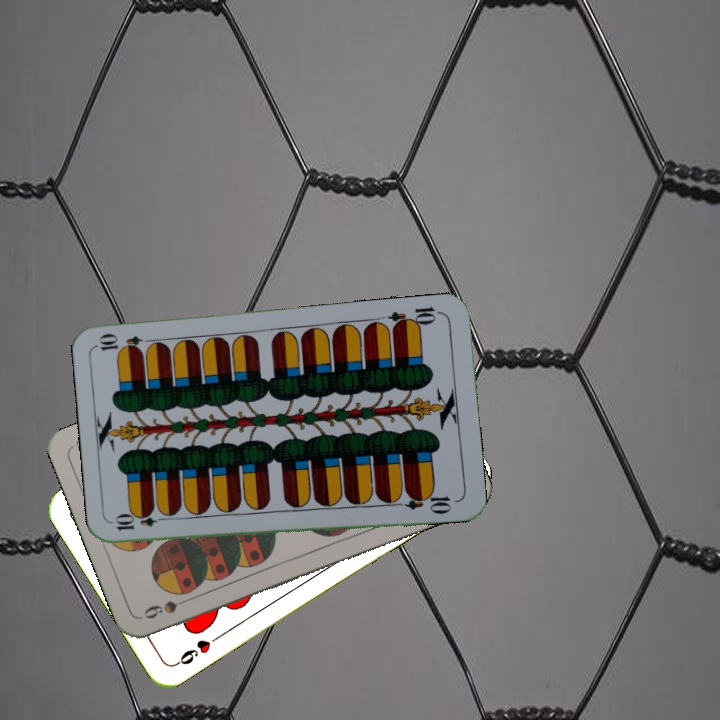E10: (385, 303, 444, 332), (111, 511, 171, 533)
H9: (171, 630, 223, 669)
S9: (139, 592, 196, 622)
